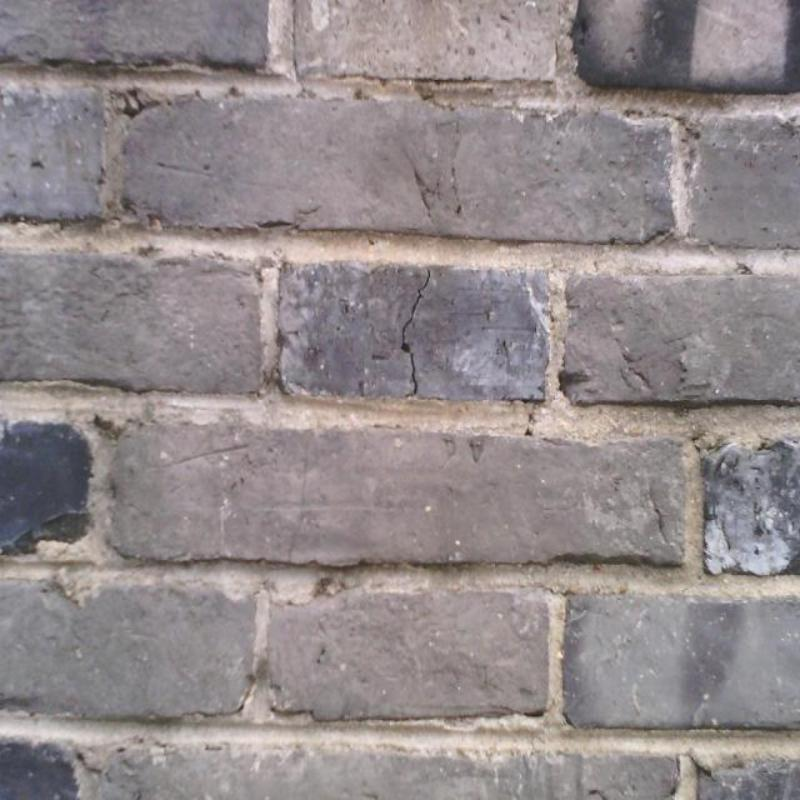pothole: (401, 269, 431, 398)
